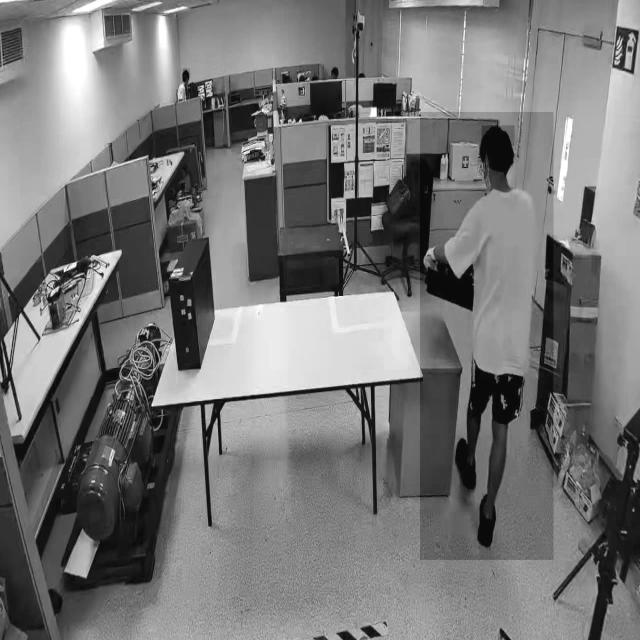hand_glove: (420, 238, 444, 284)
head_nohelmet: (481, 125, 515, 147), (182, 68, 190, 76)
person: (419, 112, 554, 561)
shoes: (474, 489, 502, 552), (453, 435, 479, 496)
